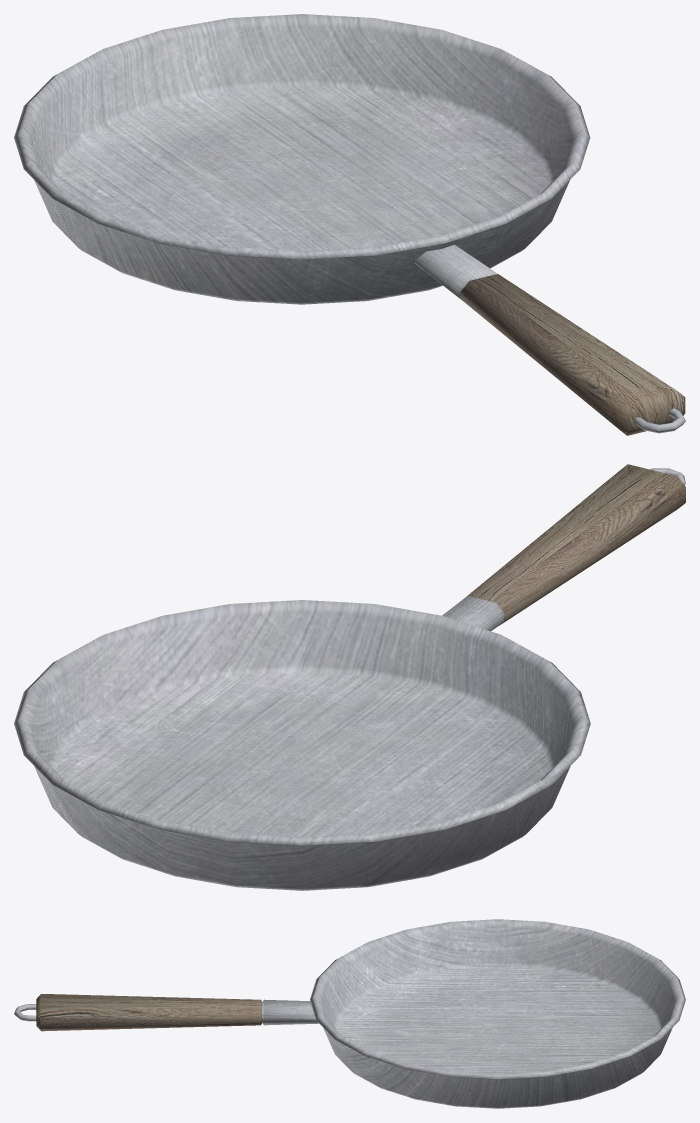
The model's file is SM_KitchenwareJ.FBX.
3 views of the same model, one above another, from view 1: azimuth 30°, elevation 25°; view 2: azimuth 150°, elevation 25°; view 3: azimuth 270°, elevation 25° (orthographic). The views are drawn at different scales.
Parts seen in each view (by area): view 1: SM_KitchenwareJ; view 2: SM_KitchenwareJ; view 3: SM_KitchenwareJ.
Boxes of the visible parts, box(x1,y1,x2,y2) form: SM_KitchenwareJ: box(14, 14, 685, 435); SM_KitchenwareJ: box(14, 464, 685, 890); SM_KitchenwareJ: box(14, 919, 685, 1108).
Size of the model in its own units: 30.42 by 3.77 by 54.36.
